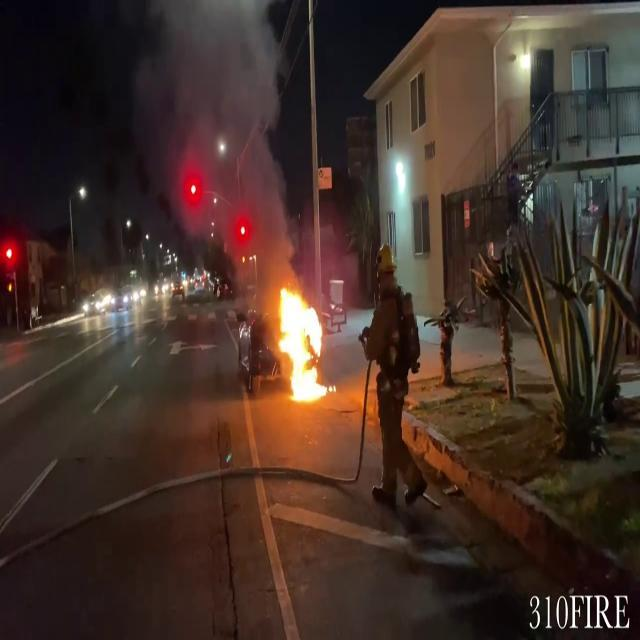Fire: (272, 277, 332, 402)
Smoke: (139, 0, 297, 246)
